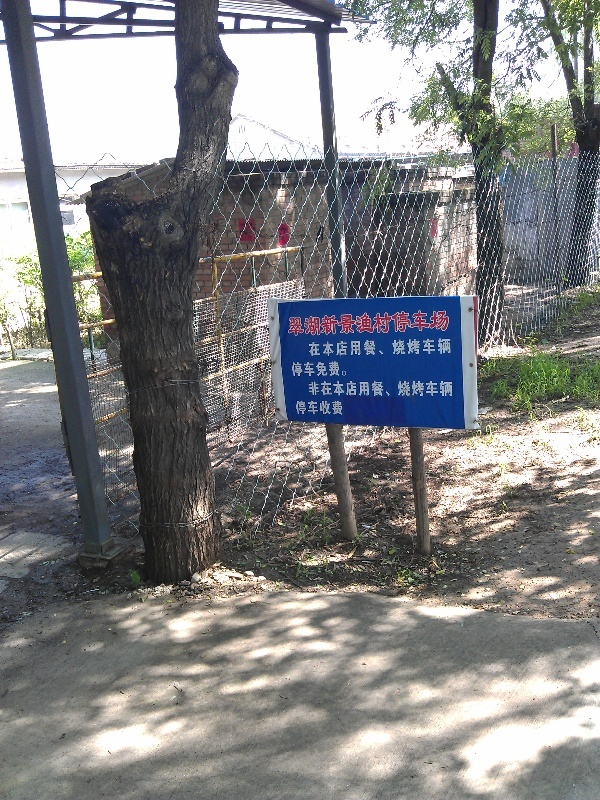text: (289, 310, 304, 338), (305, 310, 320, 338), (321, 310, 336, 338), (337, 310, 352, 338), (353, 310, 368, 338), (369, 310, 384, 338), (385, 310, 400, 338), (401, 310, 416, 338), (417, 310, 432, 338), (433, 310, 448, 338), (321, 338, 336, 357), (337, 338, 352, 357), (353, 338, 368, 357), (369, 338, 384, 357), (385, 338, 400, 357), (401, 338, 416, 357), (417, 338, 432, 357), (433, 338, 448, 357), (305, 361, 320, 378), (321, 361, 336, 378), (321, 381, 336, 398), (337, 381, 352, 398), (353, 381, 368, 398), (369, 381, 384, 398), (385, 381, 400, 398), (401, 381, 416, 398), (417, 381, 432, 398), (433, 381, 448, 398), (305, 400, 320, 415), (321, 400, 336, 415), (291, 361, 304, 378), (309, 338, 320, 357), (241, 221, 252, 240), (308, 381, 320, 398), (279, 225, 288, 244), (337, 361, 347, 378), (295, 400, 304, 415), (337, 400, 344, 415), (449, 381, 454, 398), (449, 310, 452, 338), (449, 338, 452, 357)
